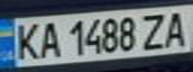1: (63, 17, 87, 56)
4: (81, 16, 103, 55)
8: (115, 12, 142, 53), (100, 15, 121, 54)
A: (160, 7, 193, 50), (36, 18, 63, 60)
K: (9, 19, 42, 61)
Z: (139, 10, 172, 52)
